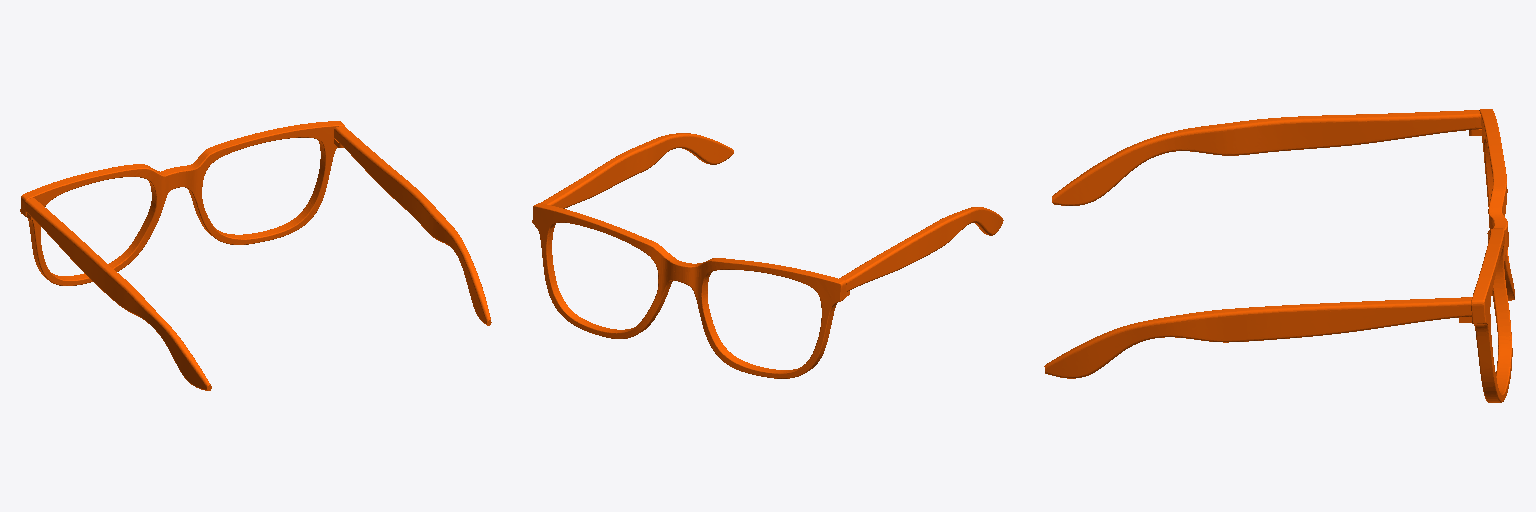
URDF robot description (eyeglasses):
<?xml version="1.0" ?>
<robot name="eyeglasses">
   <material name="obj_color">
      <color rgba="1.0 0.423529411765 0.0392156862745 1.0"/>
   </material>
   <link name="top">
      <inertial>
         <origin rpy="4.008193960345146e-05 7.304495244014777e-05 0.0001078166804685566" xyz="-8.375632717791301e-05 0.02412171270592317 0.008866259101263152"/>
         <mass value="0.02269071147609543"/>
         <inertia ixx="4.008871399752561e-05" ixy="4.722571254097761e-07" ixz="2.044613524781901e-08" iyy="7.303848906857946e-05" iyz="-1.031043631640362e-07" izz="0.0001078163694460507"/>
      </inertial>
      <visual>
         <origin rpy="0 0 0" xyz="0 0 0"/>
         <geometry>
            <mesh filename="top_watertight_tiny.stl" scale="1 1 1"/>
         </geometry>
         <material name="obj_color"/>
      </visual>
      <collision>
         <origin rpy="0 0 0" xyz="0 0 0"/>
         <geometry>
            <mesh filename="top_watertight_tiny.obj" scale="1 1 1"/>
         </geometry>
      </collision>
   </link>
   <link name="bottom">
      <inertial>
         <origin rpy="1.633333333194242e-08 1.633333333194243e-08 1.633333333357667e-08" xyz="0.3464080000000008 0.3464080000000008 0.3464080000000008"/>
         <mass value="0.0009800000000000017"/>
         <inertia ixx="1.633333333248717e-08" ixy="5.447480642029219e-19" ixz="5.447480642029219e-19" iyy="1.633333333248717e-08" iyz="5.447480642029219e-19" izz="1.633333333248717e-08"/>
      </inertial>
      <visual>
         <origin rpy="0 0 0" xyz="0 0 0"/>
         <geometry>
            <mesh filename="bottom_watertight_tiny.stl" scale="1 1 1"/>
         </geometry>
         <material name="obj_color"/>
      </visual>
   </link>
   <link name="world"/>
   <joint name="world_to_base" type="fixed">
      <origin xyz="0 0 0"/>
      <axis xyz="0 0 0"/>
      <parent link="world"/>
      <child link="bottom"/>
   </joint>
   <joint name="rotation" type="revolute">
      <origin xyz="0 0 0"/>
      <axis xyz="0 0 -1"/>
      <parent link="bottom"/>
      <child link="top"/>
      <dynamics damping="1.0" friction="1.0"/>
      <limit effort="0.1" velocity="0.1" lower="0" upper="0.001"/>
   </joint>
</robot>

--- Facts derived from the render (not from the file) ---
3 views of the same robot in one strip: view 1: azimuth 30°, elevation 25°; view 2: azimuth 150°, elevation 25°; view 3: azimuth 270°, elevation 25° (orthographic).
Model eyeglasses with 3 links and 2 joints (1 revolute, 1 fixed), rooted at world, posed every joint at zero.
Links seen in each view (by area): view 1: top; view 2: top; view 3: top.
Boxes of the visible links, x1,y1,x2,y2 form: top: (20, 121, 491, 390); top: (532, 133, 1003, 378); top: (1044, 109, 1514, 402).
Bounding box of the posed robot: 0.1348 × 0.137 × 0.0442 m (x, y, z).
Meshes: 2 distinct files referenced, 1 mesh visuals loaded (1 binary STL); not drawn: 1 (reference not matched to a file when rendering).
